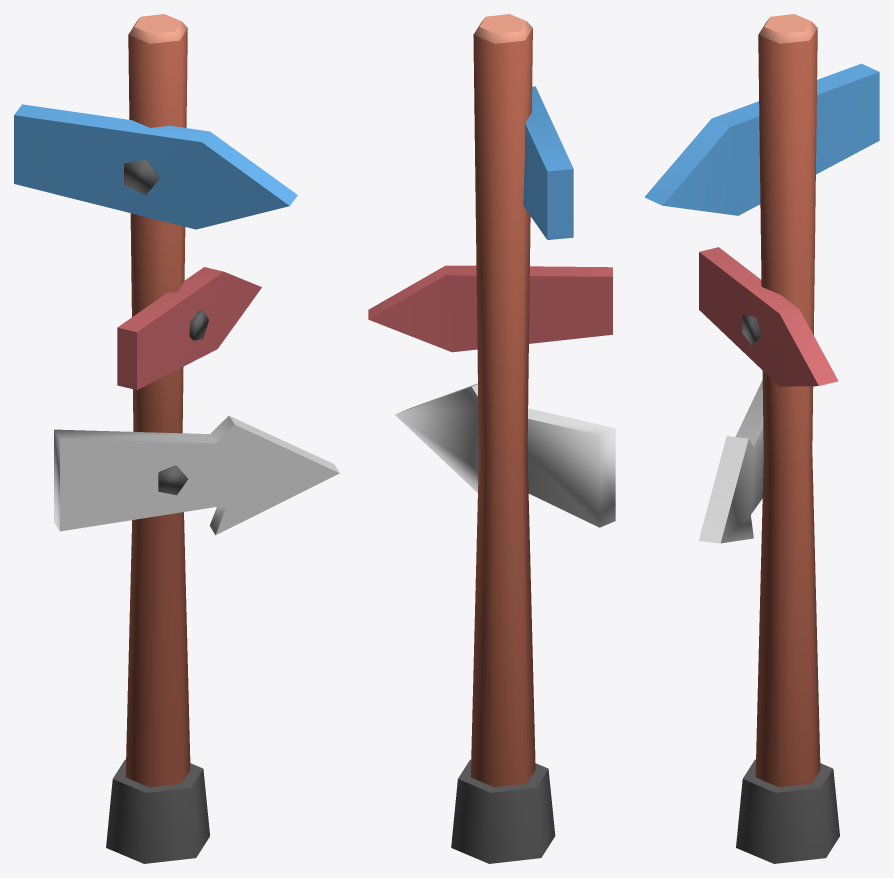
File: pointer_002.glb
3 views of the same model, side by side, from view 1: azimuth 30°, elevation 25°; view 2: azimuth 150°, elevation 25°; view 3: azimuth 270°, elevation 25° (orthographic).
Visible parts, largest first — view 1: pointer_002; view 2: pointer_002; view 3: pointer_002.
Part boxes in pixels (x1,y1,x2,y2): pointer_002: (14,14,339,863); pointer_002: (368,14,615,863); pointer_002: (644,14,879,863).
Bounding box in the file's own units: 0.8369 × 2.62 × 0.6838.
1 material, 1 textured.
